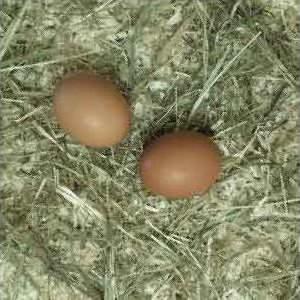egg: (53, 74, 133, 150), (138, 133, 220, 198)
